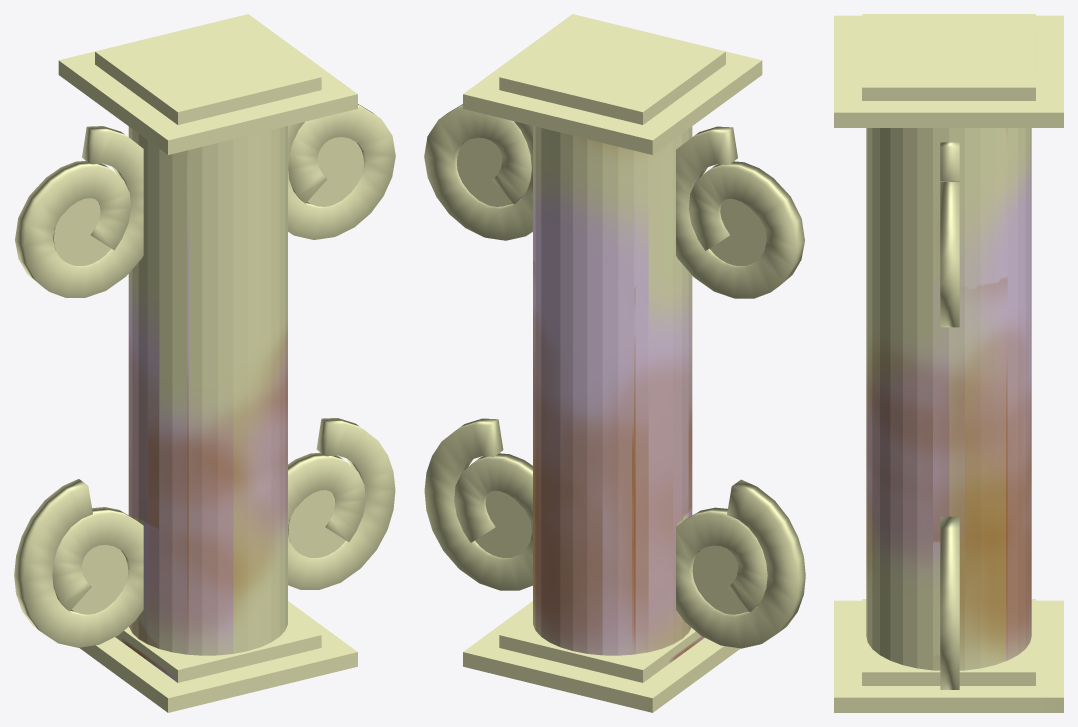
The model's file is colonne.fbx.
3 renders of one model, left to right at view 1: azimuth 30°, elevation 25°; view 2: azimuth 150°, elevation 25°; view 3: azimuth 270°, elevation 25°, orthographic. The views are drawn at different scales.
Visible parts, largest first — view 1: Cylinder; view 2: Cylinder; view 3: Cylinder.
Part boxes in pixels (x1=…): Cylinder: x1=14, y1=14, x2=395, y2=712; Cylinder: x1=424, y1=14, x2=805, y2=712; Cylinder: x1=834, y1=14, x2=1063, y2=712.
Size of the model in its own units: 392 by 590 by 200.
7 materials, 7 textured.
